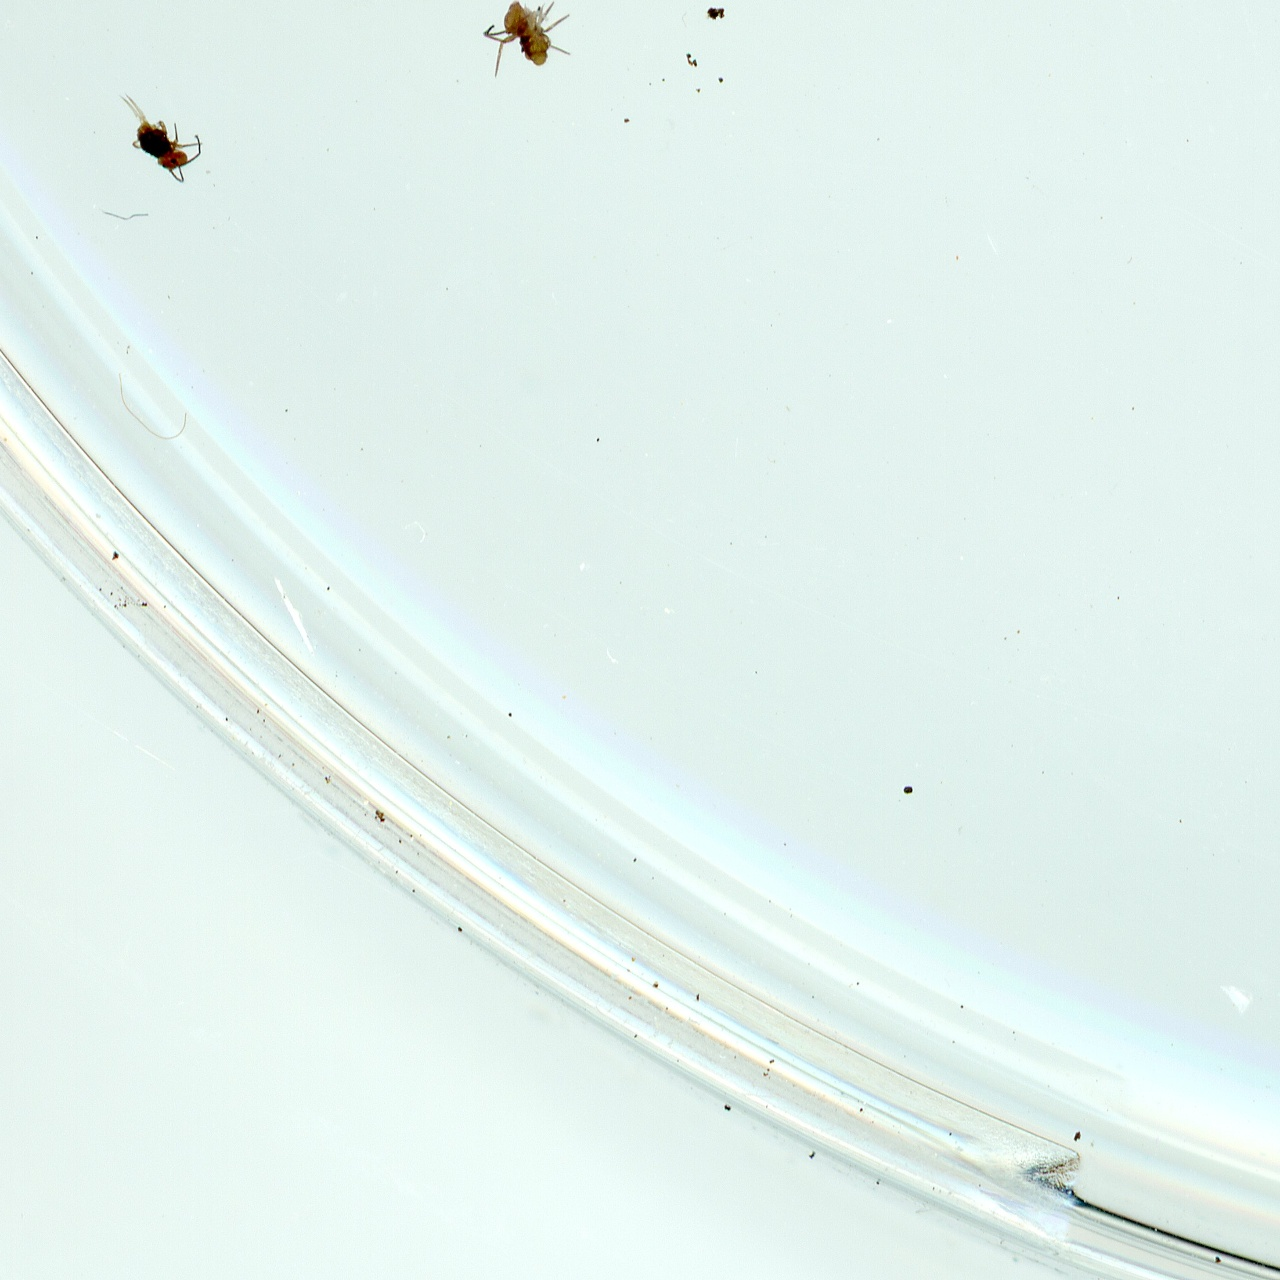arthropod: (102, 87, 216, 197), (476, 0, 581, 87)
